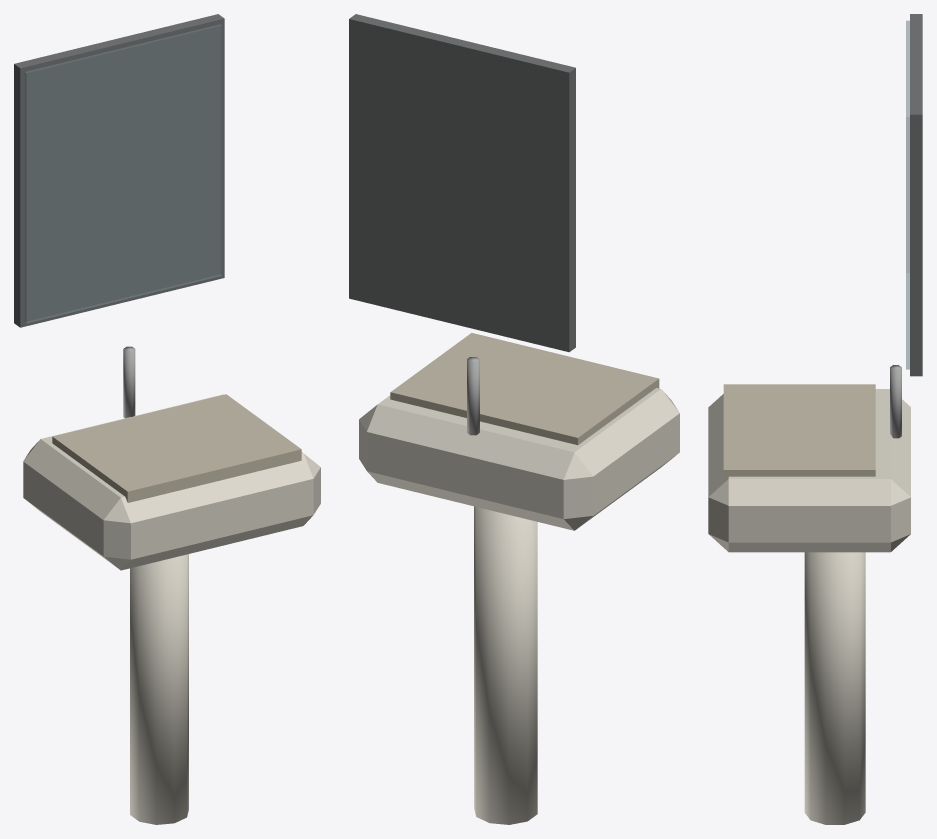
Rendered from washbasin.glb.
The picture shows the model from 3 angles, left to right: view 1: azimuth 30°, elevation 25°; view 2: azimuth 150°, elevation 25°; view 3: azimuth 270°, elevation 25°; orthographic projection. The views are drawn at different scales.
Parts seen in each view (by area): view 1: Washbasin; view 2: Washbasin; view 3: Washbasin.
Boxes of the visible parts, box(x1,y1,x2,y2) form: Washbasin: box(14, 14, 320, 824); Washbasin: box(349, 14, 679, 824); Washbasin: box(708, 14, 922, 824).
Bounding box in the file's own units: 0.5 × 1.63 × 0.4225.
